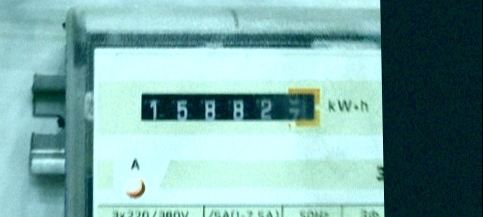1: (149, 96, 163, 118)
2: (260, 96, 276, 120)
5: (177, 95, 191, 121)
7: (290, 102, 302, 119)
8: (233, 96, 247, 120), (205, 97, 218, 120)
screen: (133, 79, 331, 137)
